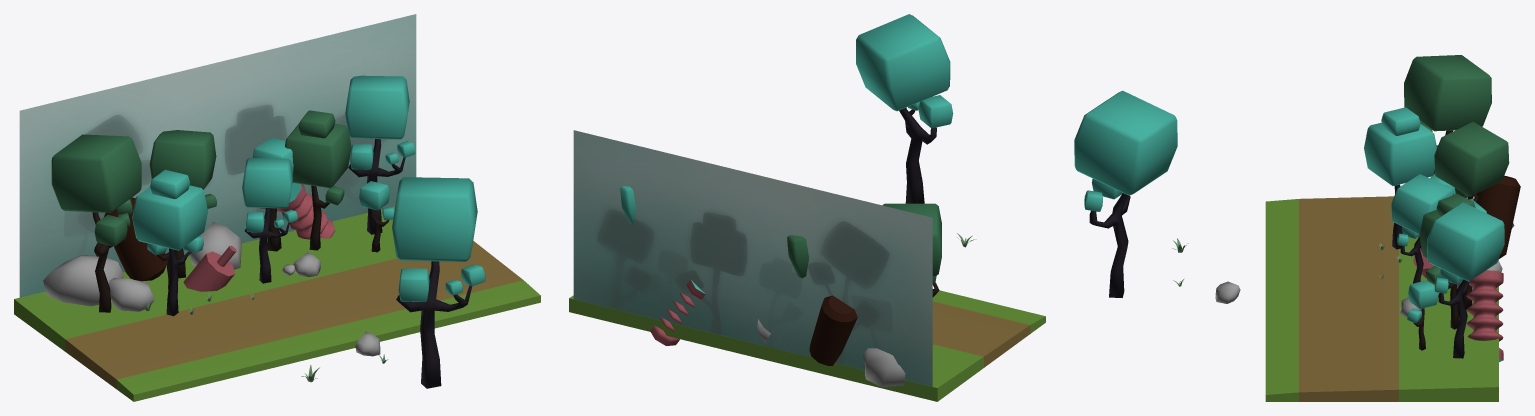
File: BackGround1.fbx
3 renders of one model, left to right at view 1: azimuth 30°, elevation 25°; view 2: azimuth 150°, elevation 25°; view 3: azimuth 270°, elevation 25°, orthographic. The views are drawn at different scales.
Visible parts, largest first — view 1: Plane002; view 2: Plane002; view 3: Plane002.
Boxes of the visible parts, left/top/right/bottom form: Plane002: left=14, top=14, right=540, bottom=401; Plane002: left=569, top=14, right=1045, bottom=401; Plane002: left=1074, top=55, right=1520, bottom=401.
Size of the model in its own units: 316 by 171 by 308.
